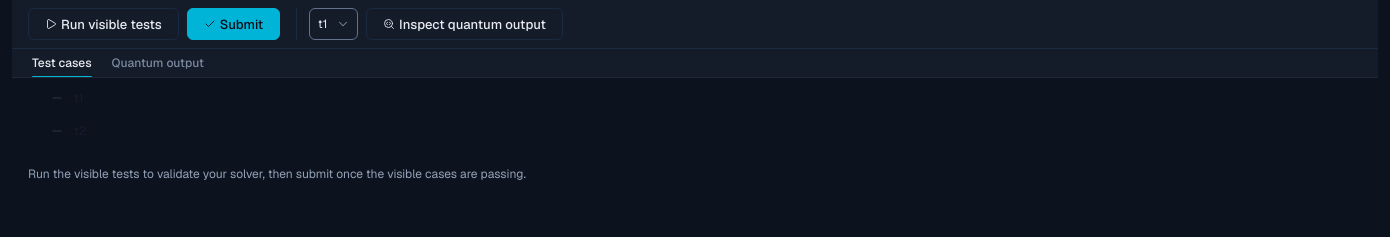
Test: TestRunner when the code does not run (learn-r10-03) › shows one banner with the line, neutral Not run rows, and no red zeros
Click the button "Run visible tests". click: (103, 24)
box: [28,8,179,40]
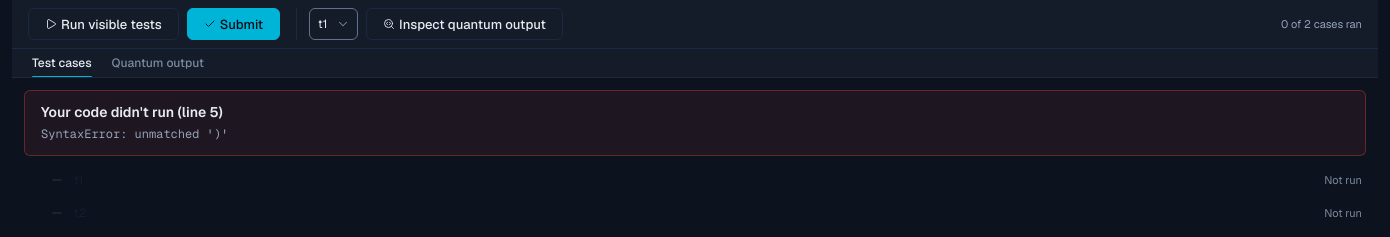
Expected: the message "Your code didn't run (line 5) SyntaxError: unmatched ')'" is shown, [24,90,1366,156]
Expected: the text "Not run" is shown 2 times, [1324,173,1362,187]; [1324,206,1362,220]
Expected: the message "0 of 2 cases ran" is shown, [1281,17,1362,31]
